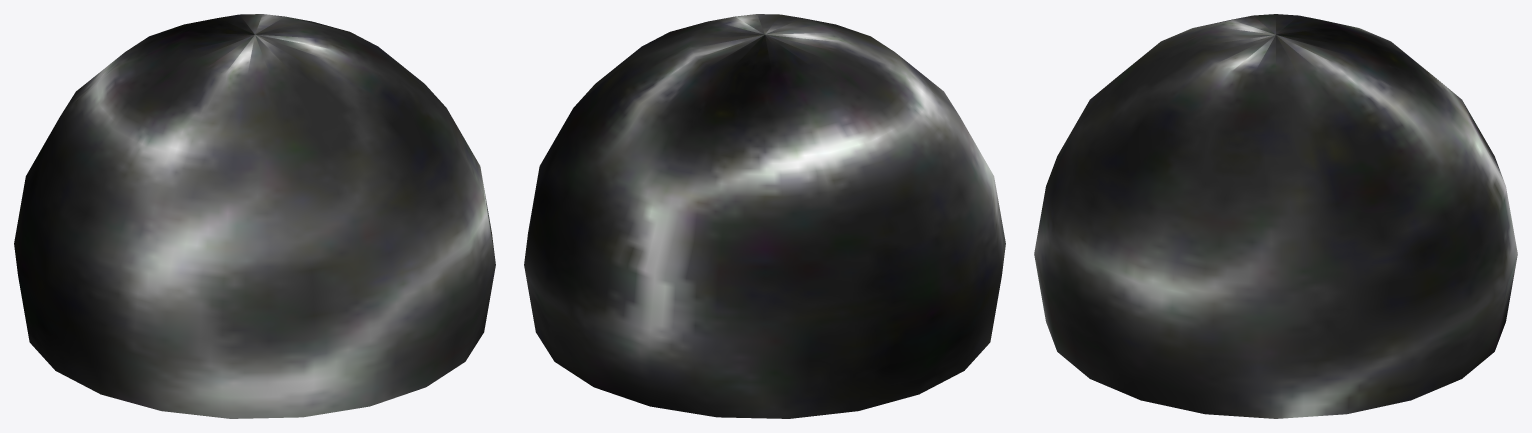
The model's file is Effect_sence_sphere01 #043155.fbx.
3 views of the same model, side by side, from view 1: azimuth 30°, elevation 25°; view 2: azimuth 150°, elevation 25°; view 3: azimuth 270°, elevation 25° (orthographic).
Visible parts, largest first — view 1: Effect_sence_sphere01; view 2: Effect_sence_sphere01; view 3: Effect_sence_sphere01.
Part boxes in pixels (<box>): Effect_sence_sphere01: <box>14,14,495,418</box>; Effect_sence_sphere01: <box>524,14,1005,418</box>; Effect_sence_sphere01: <box>1034,14,1517,418</box>.
Size of the model in its own units: 1.6 by 1.05 by 1.6.
1 material, 1 textured.
